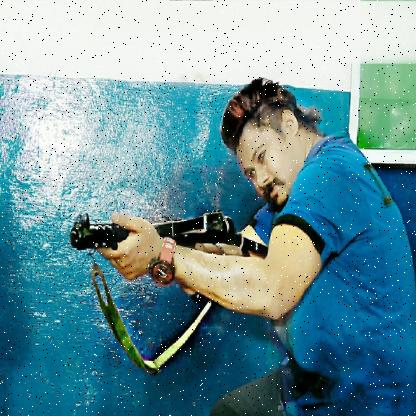rifle: (68, 206, 270, 260)
